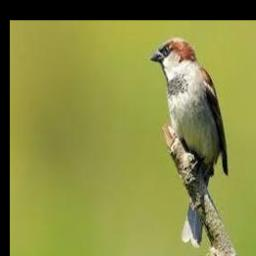Sparrow: (151, 37, 230, 247)
